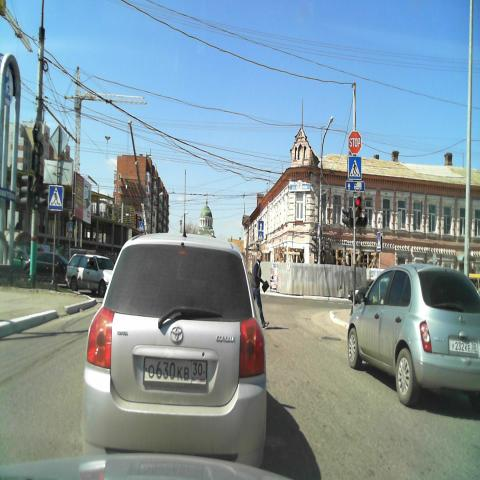6_15_1: (345, 179, 365, 191)
